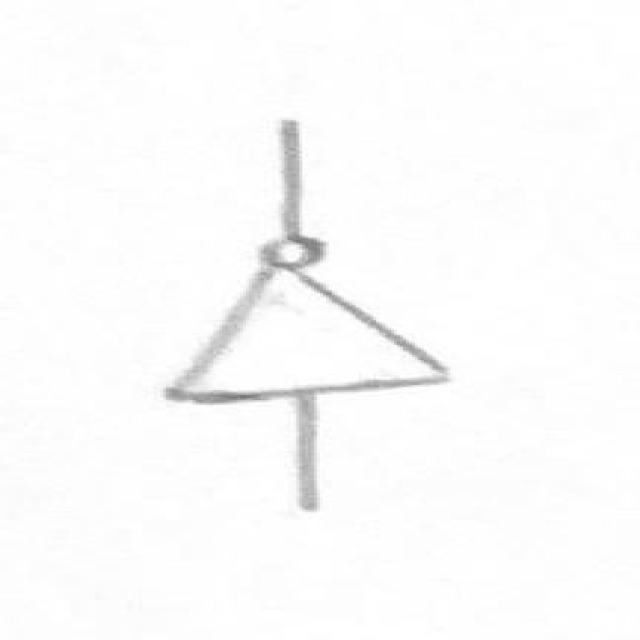NOT: (164, 218, 467, 424)
